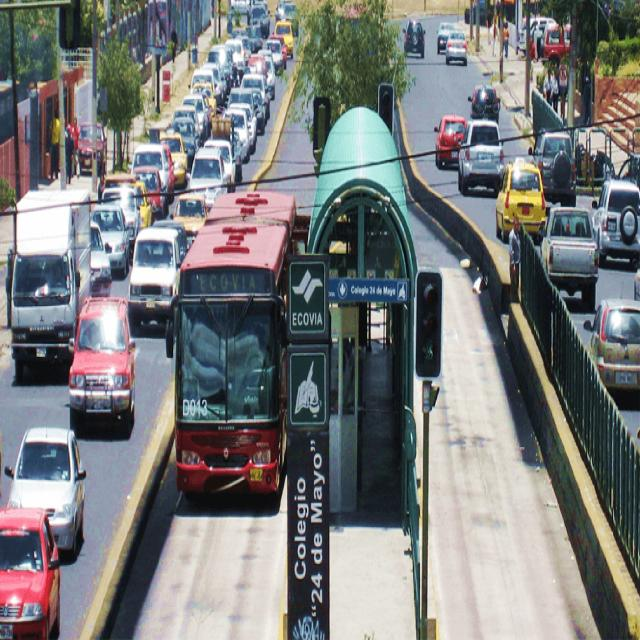BUS: (172, 220, 286, 512)
TRUCK: (6, 185, 92, 377)
